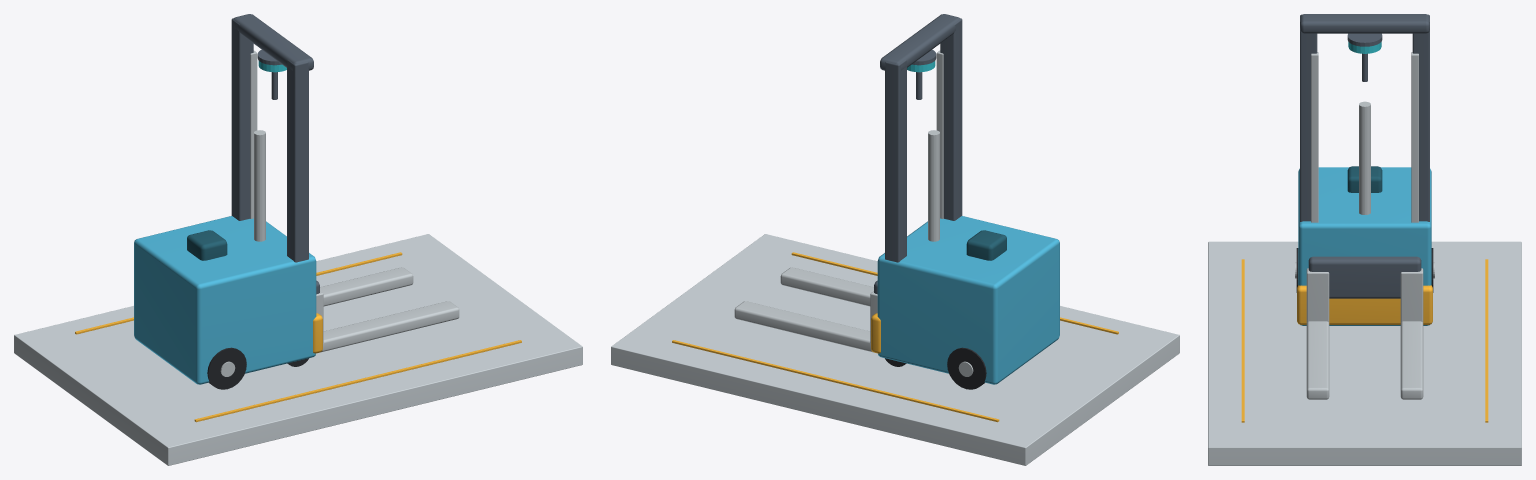
The picture shows the model from 3 angles, left to right: view 1: azimuth 30°, elevation 25°; view 2: azimuth 150°, elevation 25°; view 3: azimuth 270°, elevation 25°; orthographic projection.
Parts seen in each view (by area): view 1: Ground plane, Power unit, Lift mast outer rail, Lift mast outer rail.001, Fork tine / pallet handling, Fork tine / pallet handling.001, Mast crosshead, Hydraulic lift cylinder, Concept clearance guide, Driven wheel / tyre, Operator display, Lift mast inner rail.001; view 2: Ground plane, Power unit, Lift mast outer rail.001, Lift mast outer rail, Fork tine / pallet handling.001, Fork tine / pallet handling, Mast crosshead, Hydraulic lift cylinder, Concept clearance guide.001, Driven wheel / tyre.001, Operator display, Lift mast inner rail; view 3: Ground plane, Power unit, Fork carriage, Front safety bumper, Mast crosshead, Lift mast outer rail, Lift mast outer rail.001, Fork tine / pallet handling, Fork tine / pallet handling.001, Lift mast inner rail, Lift mast inner rail.001, Hydraulic lift cylinder (+6 smaller).
Part boxes in pixels (left/top/right/bottom): Ground plane: left=14, top=234, right=582, bottom=465; Power unit: left=134, top=216, right=316, bottom=384; Lift mast outer rail: left=287, top=59, right=308, bottom=262; Lift mast outer rail.001: left=231, top=18, right=253, bottom=220; Fork tine / pallet handling: left=320, top=301, right=459, bottom=352; Fork tine / pallet handling.001: left=320, top=267, right=413, bottom=306; Mast crosshead: left=233, top=14, right=313, bottom=70; Hydraulic lift cylinder: left=254, top=130, right=265, bottom=241; Concept clearance guide: left=194, top=340, right=521, bottom=422; Driven wheel / tyre: left=207, top=347, right=246, bottom=389; Operator display: left=187, top=230, right=227, bottom=260; Lift mast inner rail.001: left=250, top=50, right=257, bottom=218; Ground plane: left=611, top=234, right=1179, bottom=465; Power unit: left=877, top=216, right=1059, bottom=384; Lift mast outer rail.001: left=885, top=59, right=906, bottom=262; Lift mast outer rail: left=940, top=18, right=962, bottom=220; Fork tine / pallet handling.001: left=734, top=301, right=873, bottom=352; Fork tine / pallet handling: left=780, top=267, right=873, bottom=306; Mast crosshead: left=880, top=14, right=960, bottom=70; Hydraulic lift cylinder: left=928, top=130, right=939, bottom=241; Concept clearance guide.001: left=672, top=340, right=999, bottom=422; Driven wheel / tyre.001: left=947, top=347, right=986, bottom=389; Operator display: left=966, top=230, right=1006, bottom=260; Lift mast inner rail: left=936, top=50, right=943, bottom=218; Ground plane: left=1208, top=241, right=1521, bottom=465; Power unit: left=1298, top=167, right=1431, bottom=325; Fork carriage: left=1308, top=256, right=1421, bottom=298; Front safety bumper: left=1297, top=285, right=1432, bottom=324; Mast crosshead: left=1300, top=14, right=1429, bottom=33; Lift mast outer rail: left=1300, top=14, right=1317, bottom=221; Lift mast outer rail.001: left=1412, top=14, right=1429, bottom=221; Fork tine / pallet handling: left=1306, top=321, right=1329, bottom=399; Fork tine / pallet handling.001: left=1400, top=321, right=1423, bottom=399; Lift mast inner rail: left=1311, top=52, right=1318, bottom=222; Lift mast inner rail.001: left=1411, top=52, right=1418, bottom=222; Hydraulic lift cylinder: left=1359, top=101, right=1370, bottom=214.
Size of the model in its own units: 2.8 by 2.11 by 1.8.
